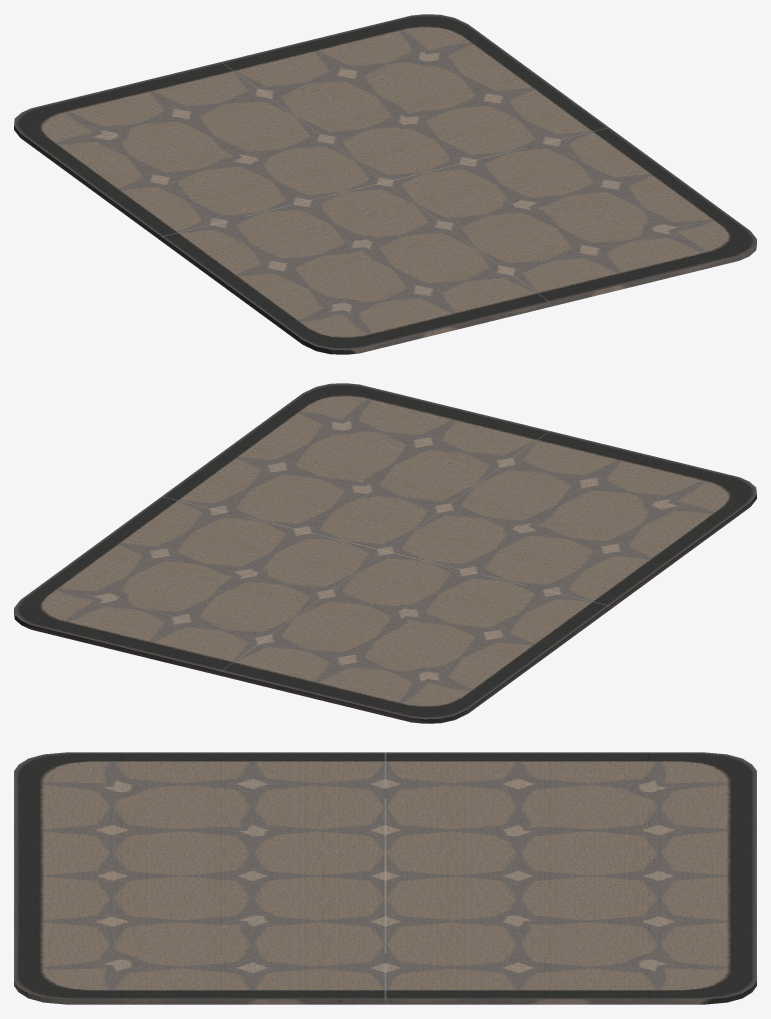
File: Carpet_Toilet.FBX
3 views of the same model, one above another, from view 1: azimuth 30°, elevation 25°; view 2: azimuth 150°, elevation 25°; view 3: azimuth 270°, elevation 25° (orthographic). The views are drawn at different scales.
Visible parts, largest first — view 1: Carpet_Toilet; view 2: Carpet_Toilet; view 3: Carpet_Toilet.
Boxes of the visible parts, left/top/right/bottom form: Carpet_Toilet: left=14, top=14, right=756, bottom=354; Carpet_Toilet: left=14, top=383, right=756, bottom=723; Carpet_Toilet: left=14, top=752, right=756, bottom=1004.
Size of the model in its own units: 60.47 by 0.5897 by 76.87.
